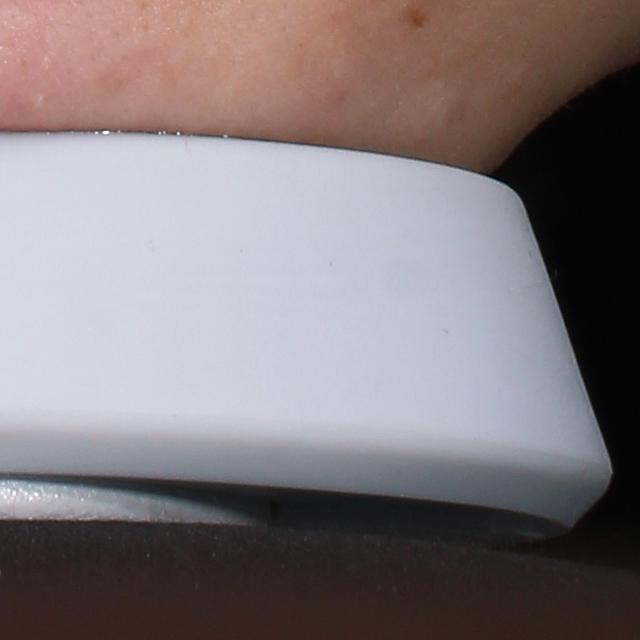nevus: (399, 4, 433, 31)
